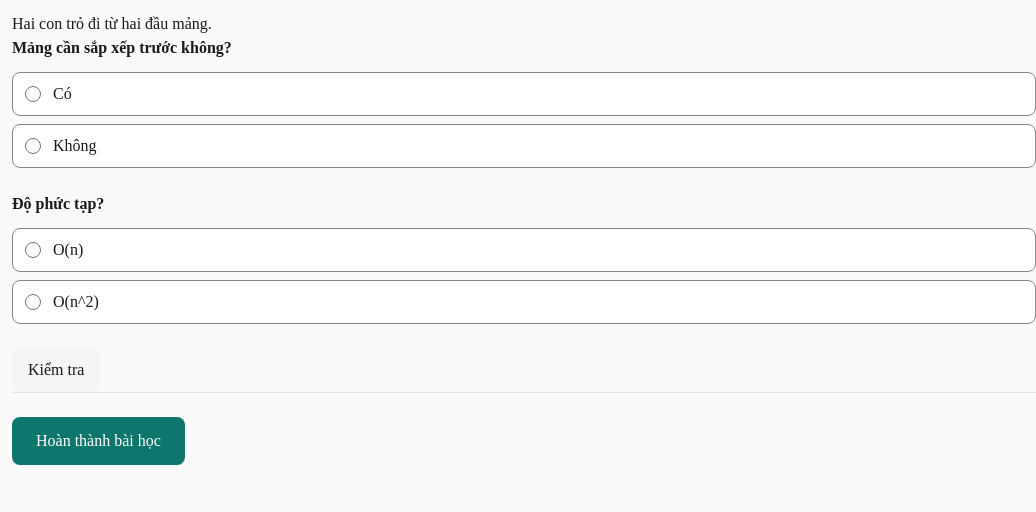
Test: LessonComplete › sends lesson.completed without a score when the quiz was not answered
This screenshot has width=1036, height=512.
Step 1. Click the button "Hoàn thành bài học" → (98, 441), box [12,417,185,465]
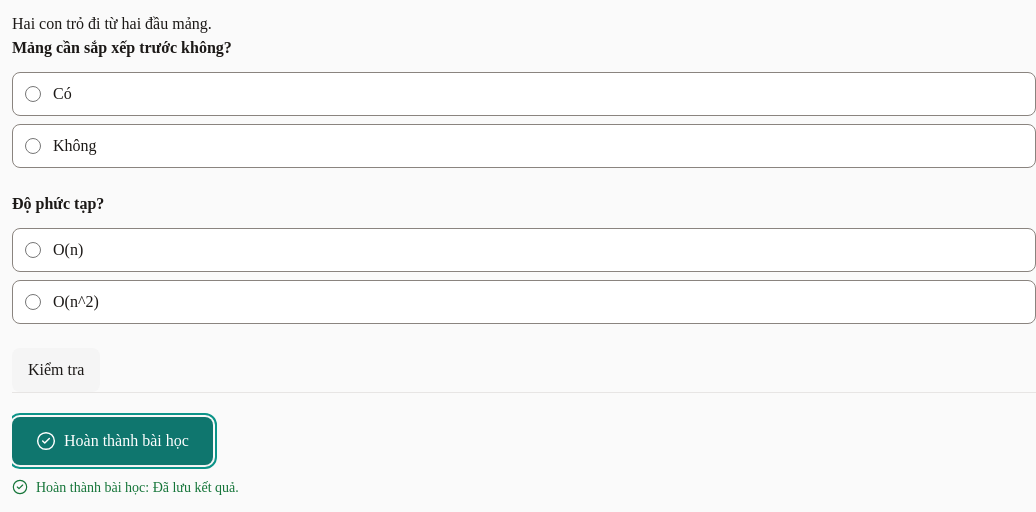
Expected: the text "Đã lưu kết quả." is shown, [153,480,239,495]
